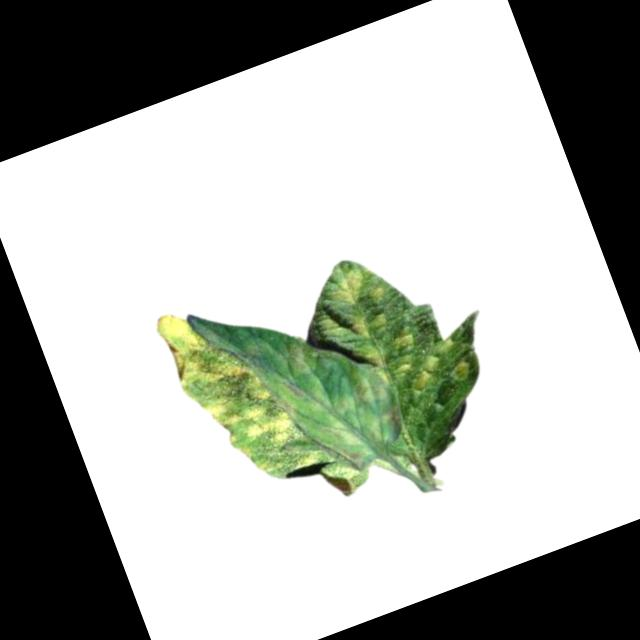Leaf_Mold: (151, 283, 322, 501), (262, 309, 412, 483), (380, 316, 475, 405), (322, 258, 385, 318), (344, 305, 390, 346)
